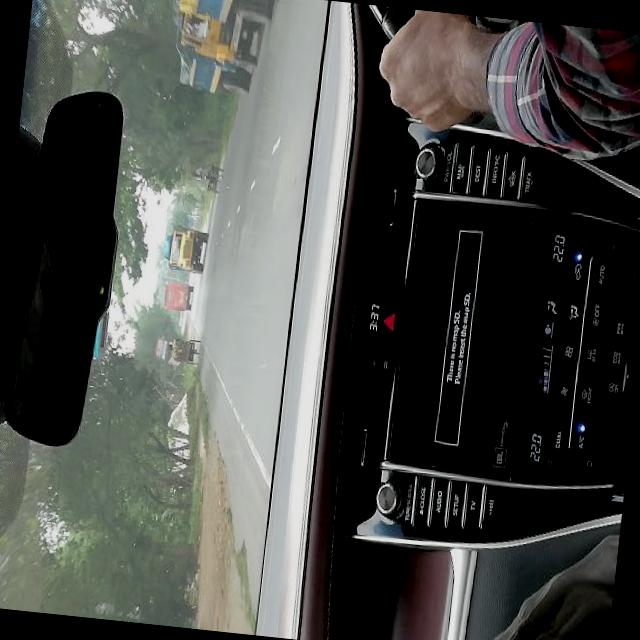bus: (161, 282, 192, 313)
motorcycle: (170, 338, 202, 367)
truck: (172, 15, 260, 96), (171, 0, 273, 26), (165, 228, 208, 274)
